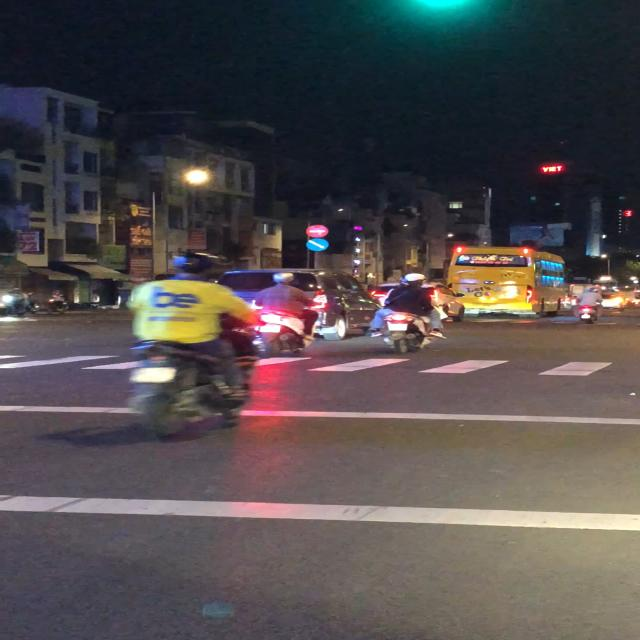Bien bao cam di nguoc chieu: (304, 224, 329, 238)
Bien bao huong phai di vong chuong ngai vat: (306, 238, 331, 252)
